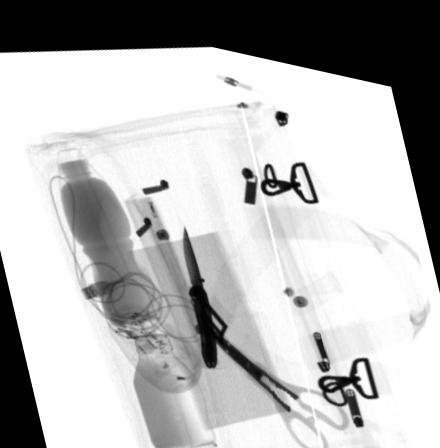Knife: (182, 217, 217, 357)
Scissors: (198, 312, 347, 441)
